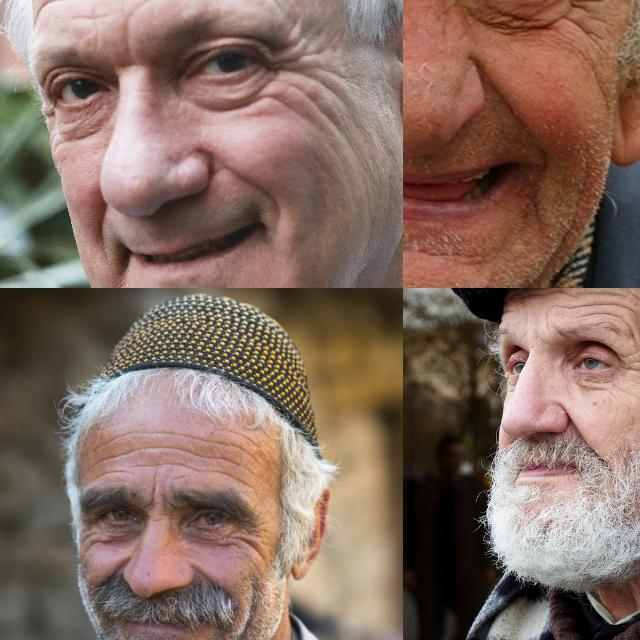chin: (420, 242, 486, 270)
crows_feet: (276, 44, 318, 90), (231, 518, 269, 552), (569, 0, 608, 28), (72, 518, 106, 548), (617, 350, 640, 384)
forehead: (212, 429, 254, 469), (152, 424, 204, 451), (586, 288, 624, 320), (144, 452, 188, 478), (518, 288, 580, 306), (94, 424, 130, 454), (216, 468, 256, 494), (96, 452, 126, 481)
frown_line: (114, 15, 144, 57), (140, 472, 163, 512), (540, 313, 556, 335)
gummy_smile: (473, 60, 521, 120), (227, 160, 276, 203), (86, 212, 118, 254), (193, 562, 225, 596), (565, 412, 591, 448), (102, 554, 128, 584)
masseter: (238, 578, 260, 640)
